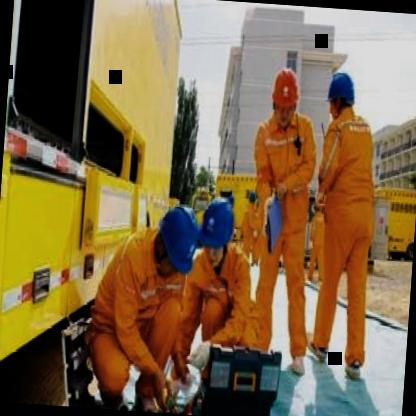helmet: (151, 200, 203, 290), (197, 192, 238, 270), (323, 66, 357, 124), (268, 66, 300, 126)
